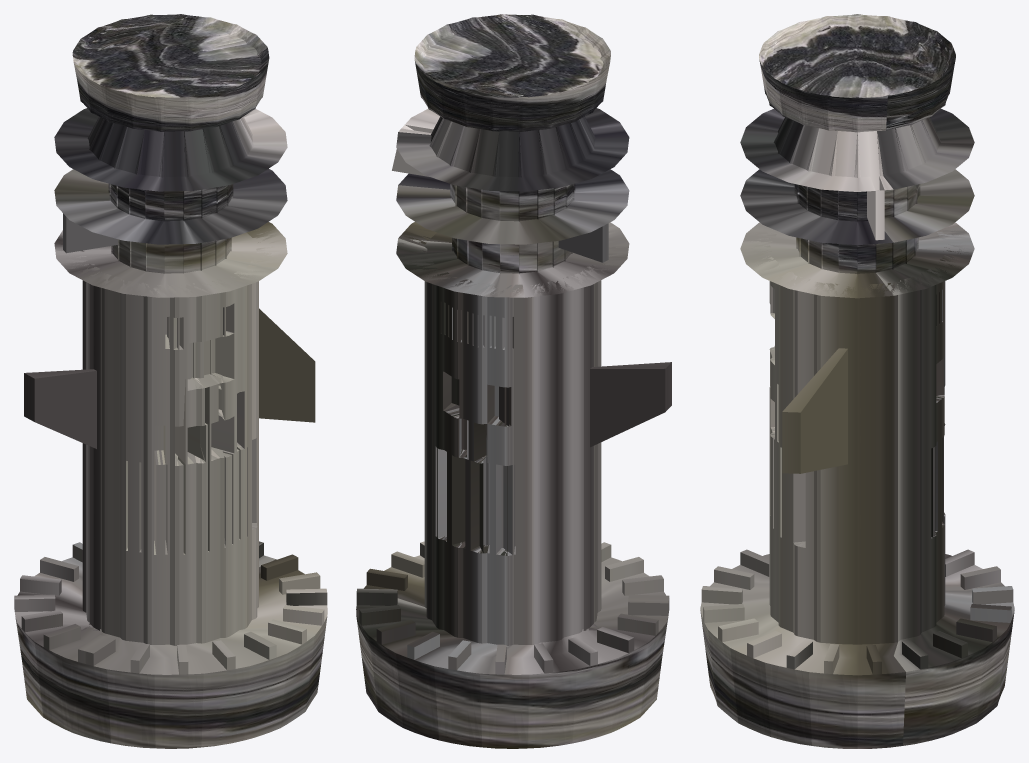
The model's file is Ruinn.fbx.
3 renders of one model, left to right at view 1: azimuth 30°, elevation 25°; view 2: azimuth 150°, elevation 25°; view 3: azimuth 270°, elevation 25°, orthographic.
Visible parts, largest first — view 1: Ruin; view 2: Ruin; view 3: Ruin.
Part boxes in pixels (<box>): Ruin: <box>14,14,327,748</box>; Ruin: <box>356,14,671,748</box>; Ruin: <box>700,14,1014,748</box>.
Bounding box in the file's own units: 2.25 × 4.84 × 2.15.
Materials: 1 (1 with a texture image).
